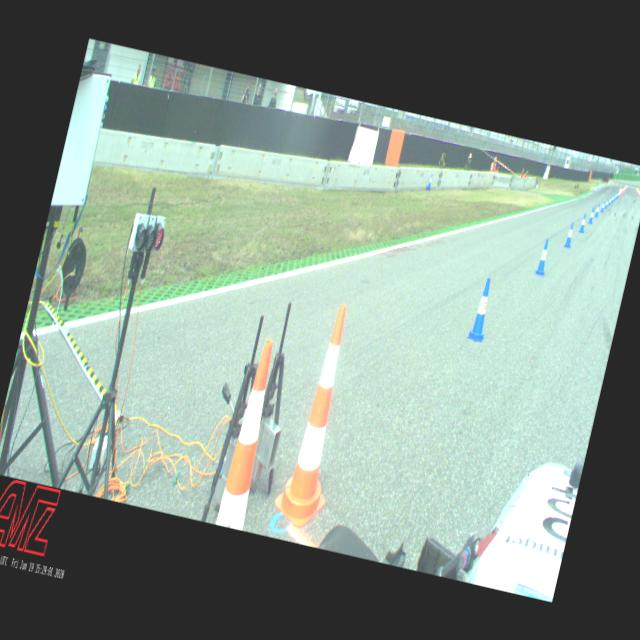blue_cone: (466, 276, 498, 342), (534, 237, 552, 277), (563, 222, 576, 248), (578, 212, 588, 233), (588, 207, 596, 224), (426, 173, 433, 190), (594, 202, 600, 218), (600, 200, 606, 212), (604, 198, 609, 210), (608, 196, 612, 207), (610, 193, 614, 204)
large_orange_cone: (270, 300, 370, 532), (215, 338, 288, 530)
